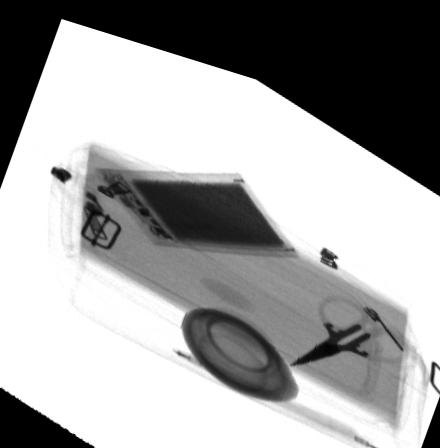Powerbank: (89, 159, 300, 240)
Scissors: (289, 272, 409, 350)
